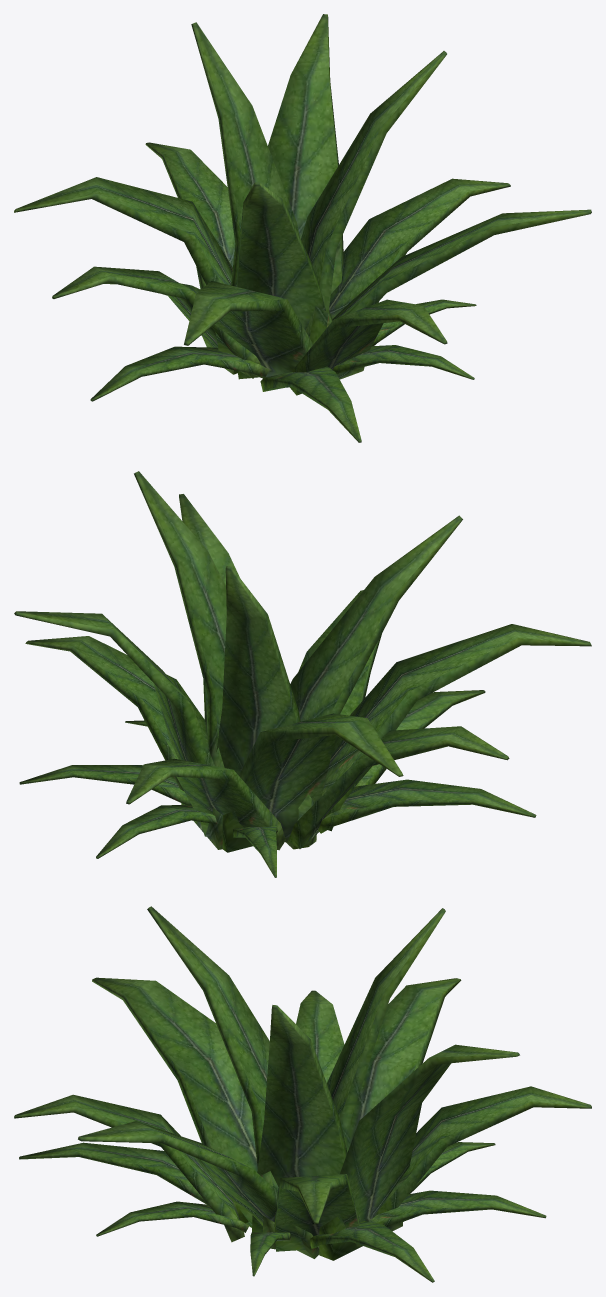
Rendered from Creepy_Grass-optimized.glb.
The picture shows the model from 3 angles, top to bottom: view 1: azimuth 30°, elevation 25°; view 2: azimuth 150°, elevation 25°; view 3: azimuth 270°, elevation 25°; orthographic projection. The views are drawn at different scales.
Visible parts, largest first — view 1: Cube.008; view 2: Cube.008; view 3: Cube.008.
Boxes of the visible parts, left/top/right/bottom form: Cube.008: left=14, top=14, right=591, bottom=442; Cube.008: left=14, top=471, right=591, bottom=877; Cube.008: left=14, top=906, right=591, bottom=1282.
Size of the model in its own units: 5.41 by 3.47 by 5.7.
1 material, 1 textured.
